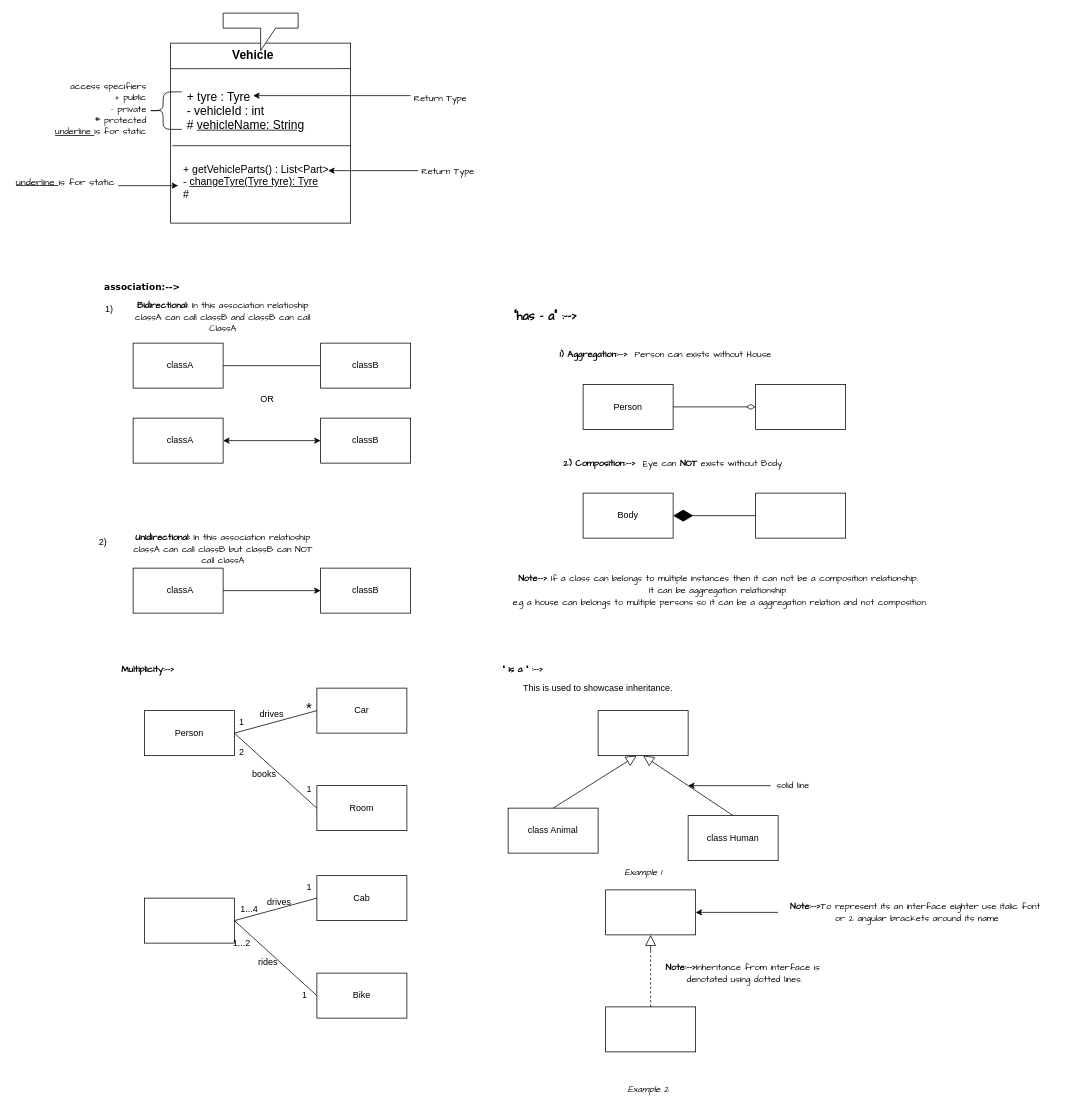
This 1068x1114 diagram has some shape labels left out. Here are the shapes that lost their labels. From the top down, the box of each, then its label:
(222, 12, 298, 51): class name
(755, 384, 846, 429): House
(755, 492, 846, 538): Eye
(597, 710, 688, 756): class Living being
(144, 897, 234, 943): Rider
(605, 889, 696, 935): << interface_1 >>
(605, 1006, 696, 1052): << interface_2 >>
